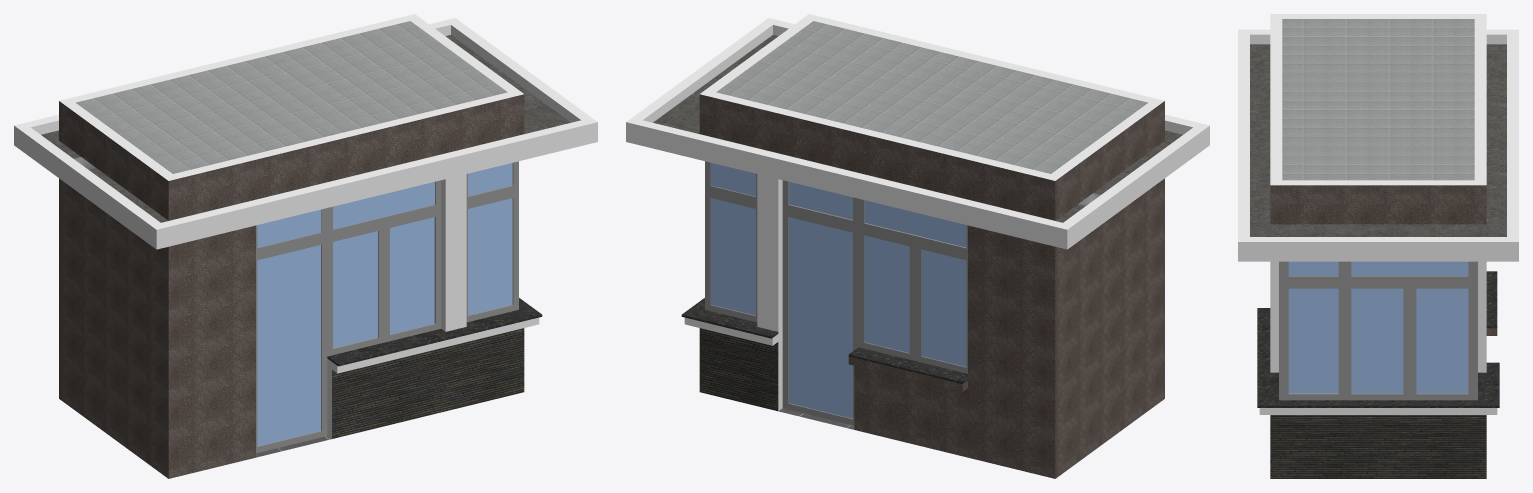
The model's file is Nhà trông xe.dae.
3 renders of one model, left to right at view 1: azimuth 30°, elevation 25°; view 2: azimuth 150°, elevation 25°; view 3: azimuth 270°, elevation 25°, orthographic.
Visible parts, largest first — view 1: Nhà trông xe; view 2: Nhà trông xe; view 3: Nhà trông xe.
Part boxes in pixels (left/top/right/bottom): Nhà trông xe: left=14, top=14, right=597, bottom=478; Nhà trông xe: left=626, top=14, right=1209, bottom=478; Nhà trông xe: left=1238, top=14, right=1518, bottom=478.
Bounding box in the file's own units: 23.25 × 13 × 15.
